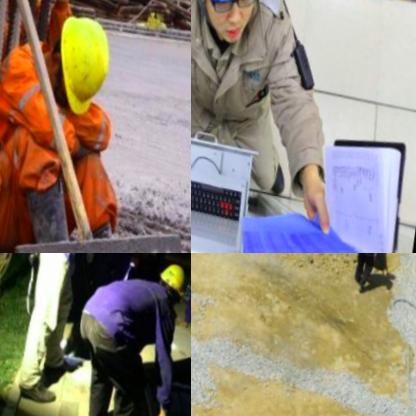helmet: (37, 0, 123, 113), (191, 0, 279, 56), (154, 253, 189, 296)
